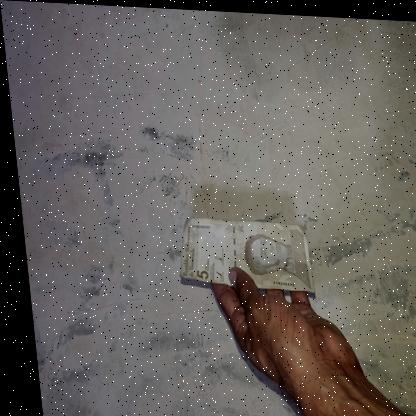five-front-vef: (169, 214, 309, 291)
